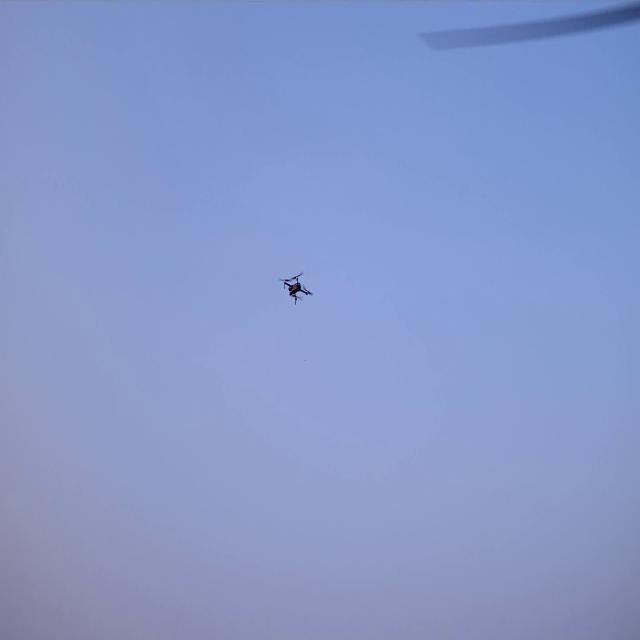UAV: (284, 275, 310, 304)
